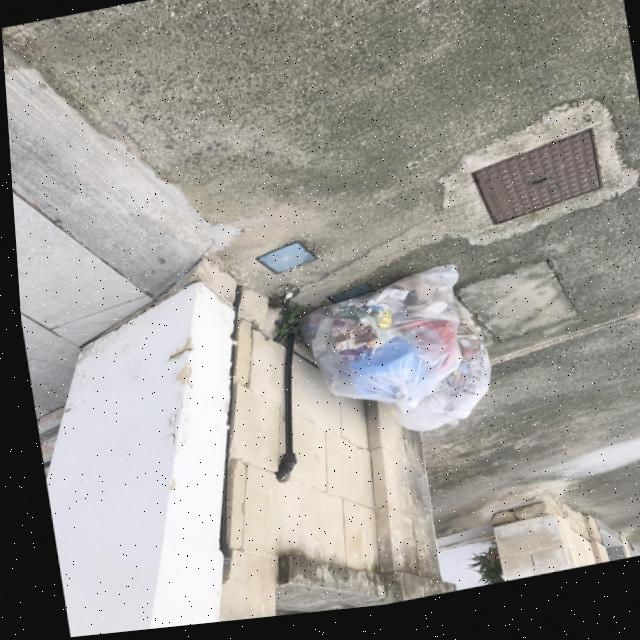Recycled Waste -Grey or Green Bag-: (296, 271, 471, 438), (375, 339, 491, 443)
